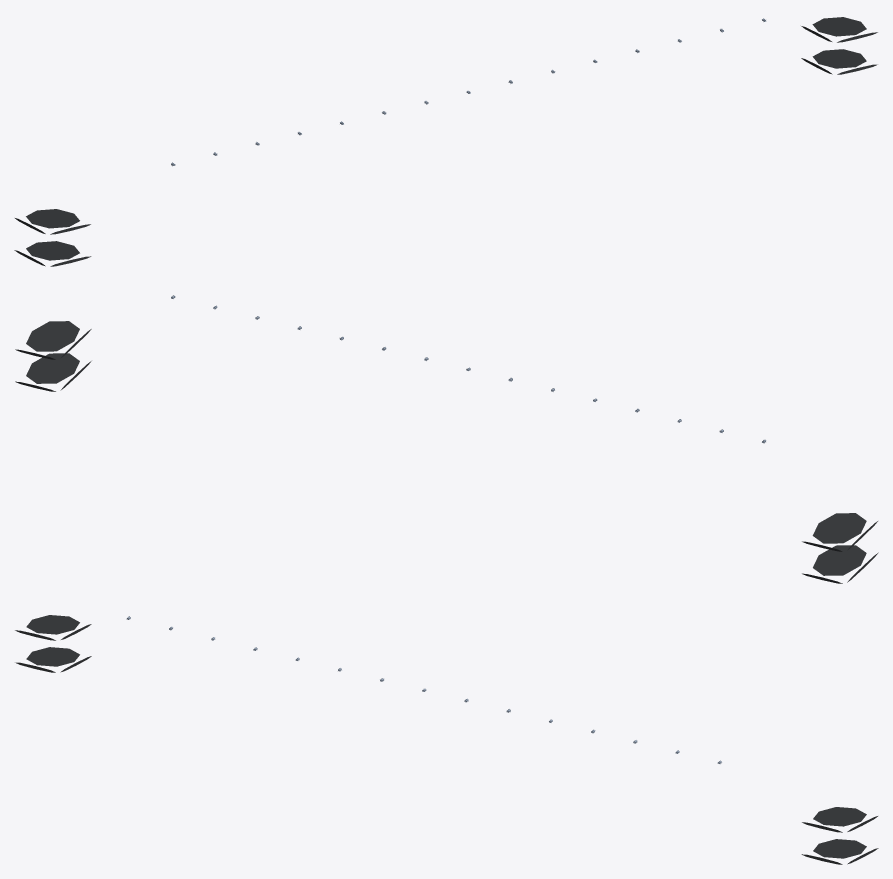
The model's file is winglet_gurney_fasteners.glb.
3 views of the same model, one above another, from view 1: azimuth 30°, elevation 25°; view 2: azimuth 150°, elevation 25°; view 3: azimuth 330°, elevation 25° (orthographic).
Parts seen in each view (by area): view 1: Winglet_Gurney_Fasteners_Assembly; view 2: Winglet_Gurney_Fasteners_Assembly; view 3: Winglet_Gurney_Fasteners_Assembly.
Boxes of the visible parts, left/top/right/bottom form: Winglet_Gurney_Fasteners_Assembly: left=14, top=17, right=877, bottom=266; Winglet_Gurney_Fasteners_Assembly: left=15, top=295, right=878, bottom=583; Winglet_Gurney_Fasteners_Assembly: left=15, top=615, right=878, bottom=864.
Size of the model in its own units: 2.17 by 0.2176 by 0.1847.
